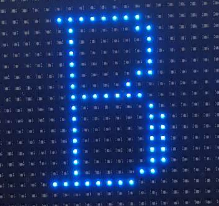b: (21, 6, 199, 196)
